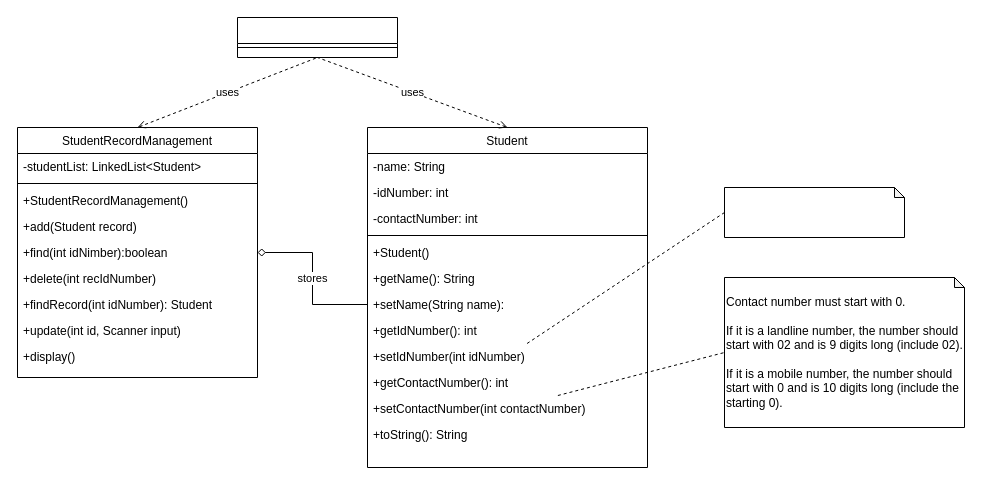
This 982x485 diagram has some shape labels left out. Each missing label, with the centre of its shape:
Main: pixel 317 37
Student ID must have 8 digits and it can not start with zero.: pixel 814 212
